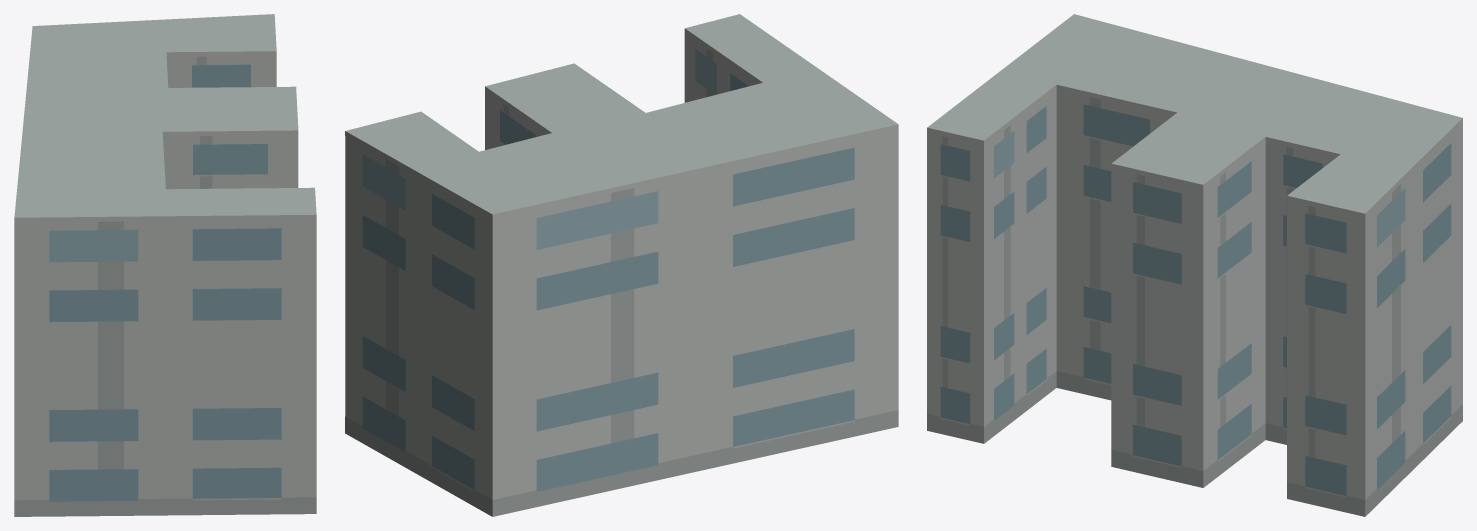
File: residential-dce9ebef-dbb2-4c52-8989-6929c5a586a8.glb
3 views of the same model, side by side, from view 1: azimuth 30°, elevation 25°; view 2: azimuth 150°, elevation 25°; view 3: azimuth 270°, elevation 25° (orthographic).
Parts seen in each view (by area): view 1: residential-dce9ebef-dbb2-4c52-8989-6929c5a586a8.tmp; view 2: residential-dce9ebef-dbb2-4c52-8989-6929c5a586a8.tmp; view 3: residential-dce9ebef-dbb2-4c52-8989-6929c5a586a8.tmp.
Part boxes in pixels (<box>): residential-dce9ebef-dbb2-4c52-8989-6929c5a586a8.tmp: <box>14,14,316,516</box>; residential-dce9ebef-dbb2-4c52-8989-6929c5a586a8.tmp: <box>345,14,898,516</box>; residential-dce9ebef-dbb2-4c52-8989-6929c5a586a8.tmp: <box>927,14,1462,516</box>.
Size of the model in its own units: 21.56 by 15.25 by 24.43.
